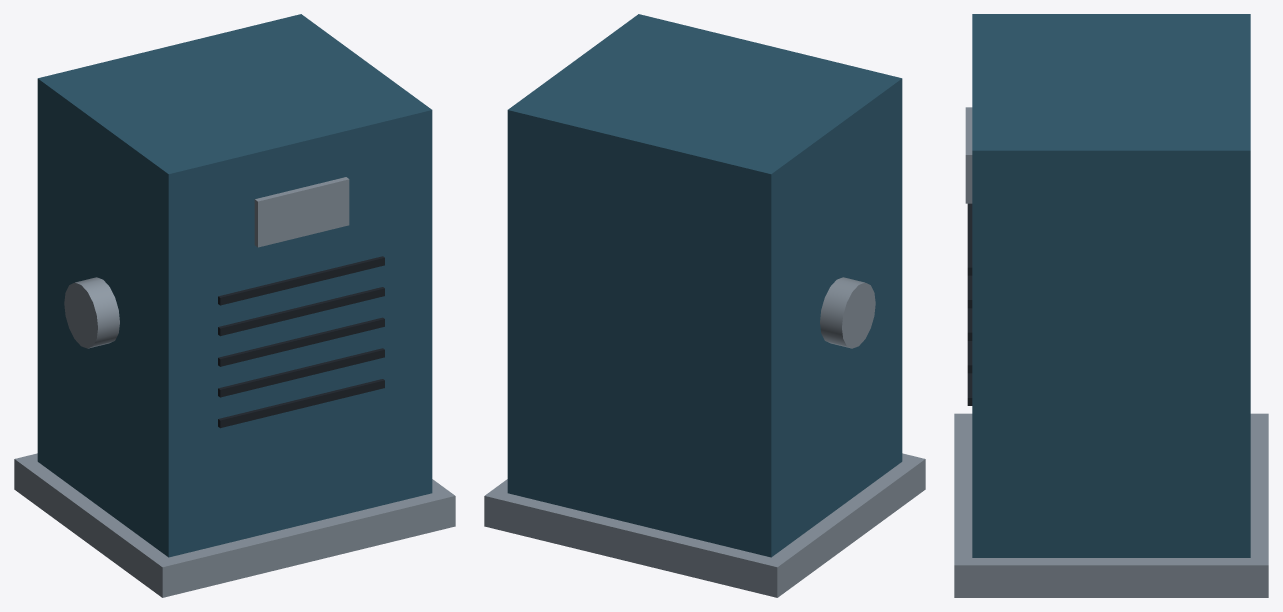
Rendered from demand.glb.
The picture shows the model from 3 angles, left to right: view 1: azimuth 30°, elevation 25°; view 2: azimuth 150°, elevation 25°; view 3: azimuth 270°, elevation 25°; orthographic projection. The views are drawn at different scales.
Size of the model in its own units: 0.82 by 1.08 by 0.7.
